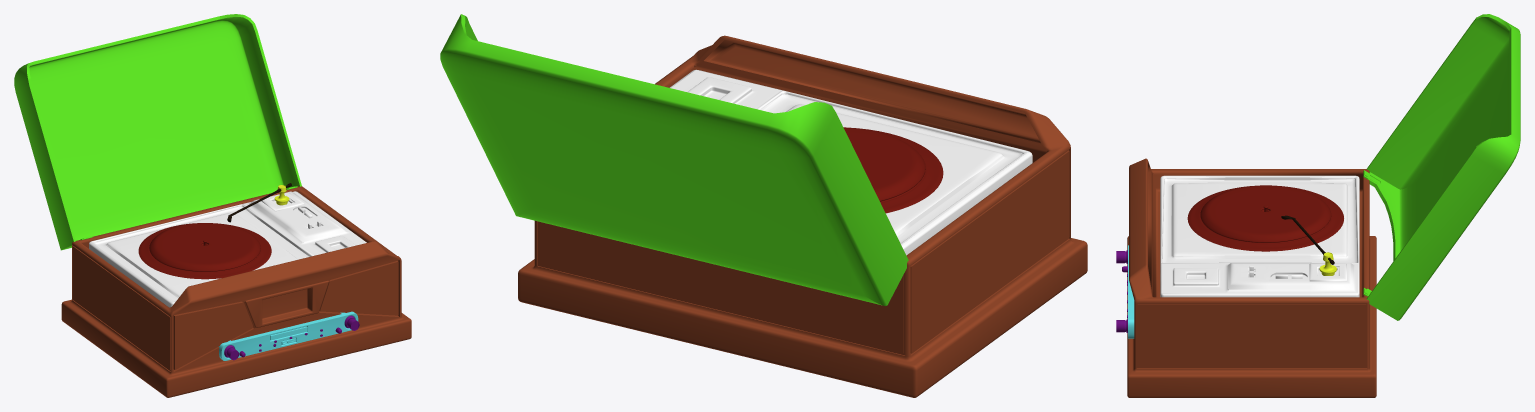
The model's file is Tocadiscos.fbx.
3 views of the same model, side by side, from view 1: azimuth 30°, elevation 25°; view 2: azimuth 150°, elevation 25°; view 3: azimuth 270°, elevation 25° (orthographic). The views are drawn at different scales.
Parts seen in each view (by area): view 1: Box032, Box028, Box029, Cylinder037, Box031, Cylinder042; view 2: Box028, Box032, Box029, Cylinder037; view 3: Box028, Box032, Box029, Cylinder037, Box031, Cylinder042.
Part boxes in pixels (box(x1,y1,x2,y2)): Box032: box(14, 14, 301, 250); Box028: box(61, 186, 411, 397); Box029: box(89, 191, 366, 307); Cylinder037: box(138, 223, 271, 279); Box031: box(218, 311, 358, 360); Cylinder042: box(224, 315, 359, 360); Box028: box(518, 35, 1087, 397); Box032: box(440, 14, 908, 305); Box029: box(669, 69, 1032, 255); Cylinder037: box(843, 127, 943, 213); Box028: box(1127, 158, 1376, 397); Box032: box(1363, 14, 1520, 320); Box029: box(1160, 175, 1359, 297); Cylinder037: box(1187, 185, 1343, 251); Box031: box(1128, 245, 1134, 338); Cylinder042: box(1116, 250, 1127, 333).
Size of the model in its own units: 32.56 by 27.23 by 39.52.
